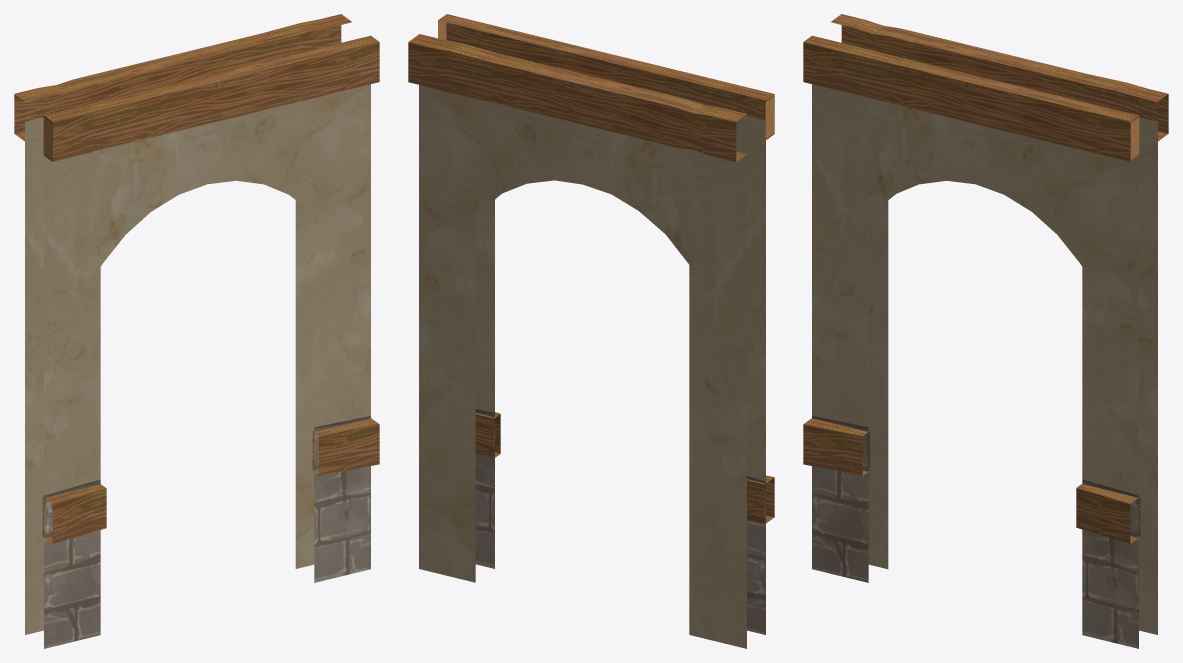
File: Wall_Plaster_Door_Round.gltf
3 renders of one model, left to right at view 1: azimuth 30°, elevation 25°; view 2: azimuth 150°, elevation 25°; view 3: azimuth 330°, elevation 25°, orthographic.
Parts seen in each view (by area): view 1: Wall_Plaster_Door_Round; view 2: Wall_Plaster_Door_Round; view 3: Wall_Plaster_Door_Round.
Part boxes in pixels (x1,y1,x2,y2): Wall_Plaster_Door_Round: (14, 14, 379, 648); Wall_Plaster_Door_Round: (408, 14, 774, 648); Wall_Plaster_Door_Round: (803, 14, 1168, 648).
Bounding box in the file's own units: 2 × 3.12 × 0.4065.
3 materials, 3 textured.
